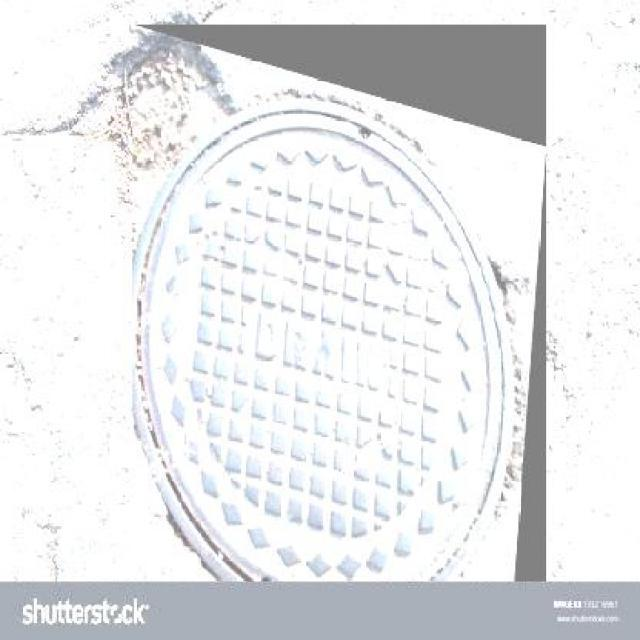Manhole: (132, 24, 546, 582)
Pothole: (42, 32, 248, 170), (487, 250, 536, 312)
